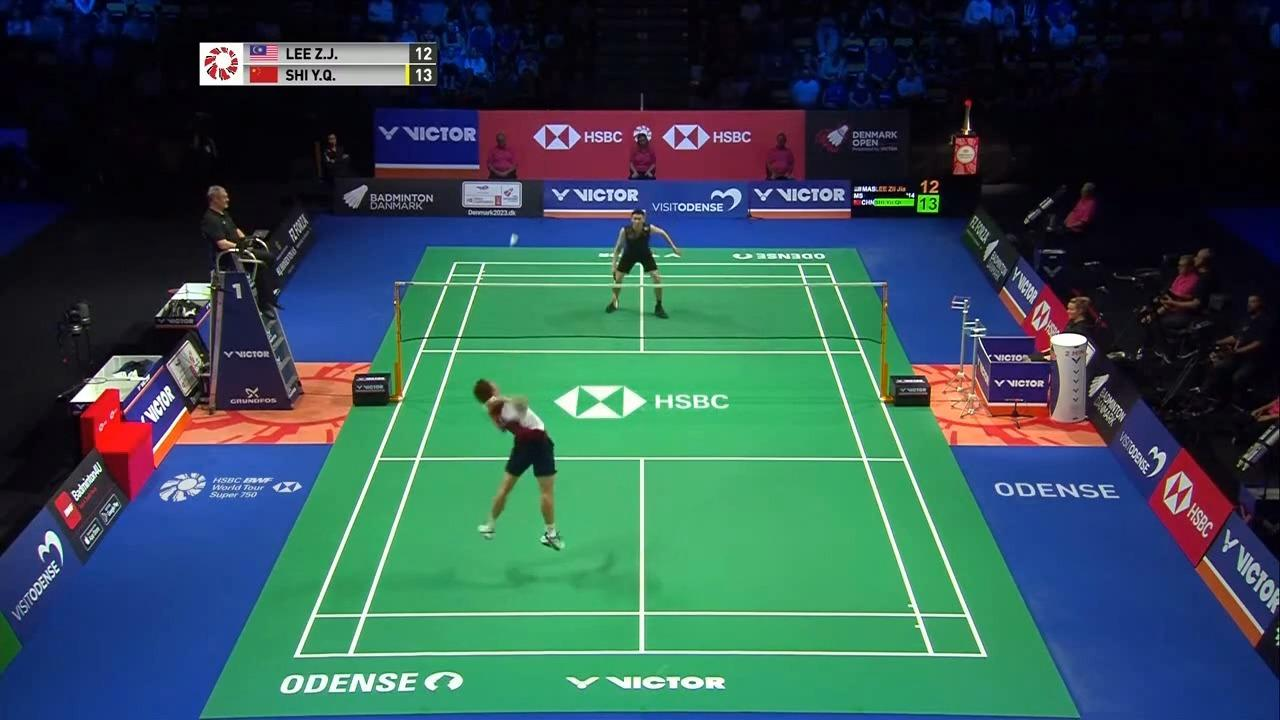shuttle: (507, 232, 521, 248)
